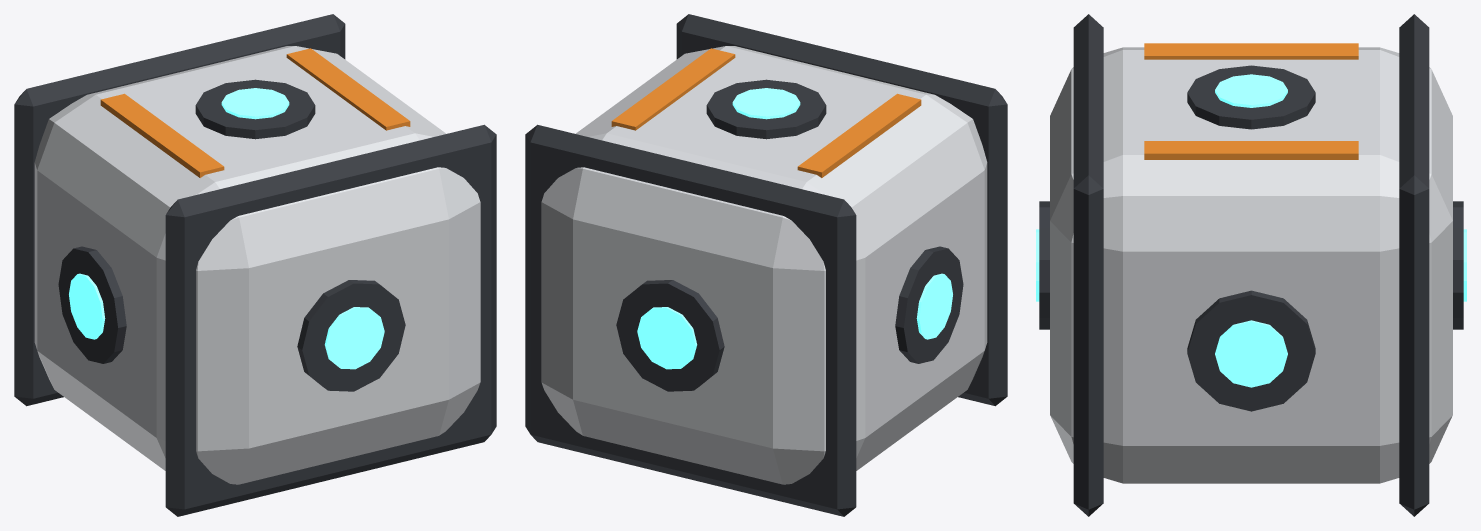
Rendered from corridor_1x1.glb.
The picture shows the model from 3 angles, left to right: view 1: azimuth 30°, elevation 25°; view 2: azimuth 150°, elevation 25°; view 3: azimuth 270°, elevation 25°; orthographic projection. The views are drawn at different scales.
Parts seen in each view (by area): view 1: corridor_1x1; view 2: corridor_1x1; view 3: corridor_1x1.
Part boxes in pixels (left/top/right/bottom): corridor_1x1: left=14, top=14, right=496, bottom=516; corridor_1x1: left=525, top=14, right=1007, bottom=516; corridor_1x1: left=1036, top=14, right=1466, bottom=516.
Bounding box in the file's own units: 0.985 × 0.905 × 1.
